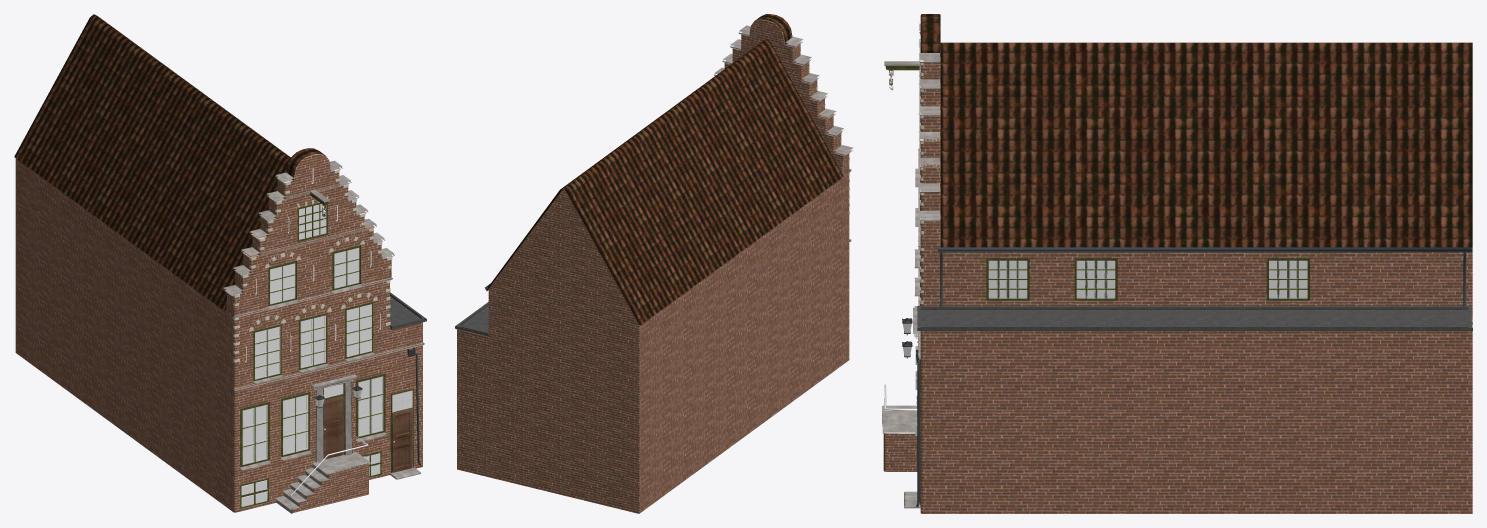
File: lubeck_house.glb
3 views of the same model, side by side, from view 1: azimuth 30°, elevation 25°; view 2: azimuth 150°, elevation 25°; view 3: azimuth 270°, elevation 25° (orthographic). The views are drawn at different scales.
Parts seen in each view (by area): view 1: lubeck_house; view 2: lubeck_house; view 3: lubeck_house.
Part boxes in pixels (x1=…): lubeck_house: x1=14, y1=14, x2=426, y2=513; lubeck_house: x1=455, y1=14, x2=853, y2=513; lubeck_house: x1=882, y1=14, x2=1472, y2=513.
Bounding box in the file's own units: 5.4 × 9 × 11.26.
Materials: 15 (10 with a texture image).
